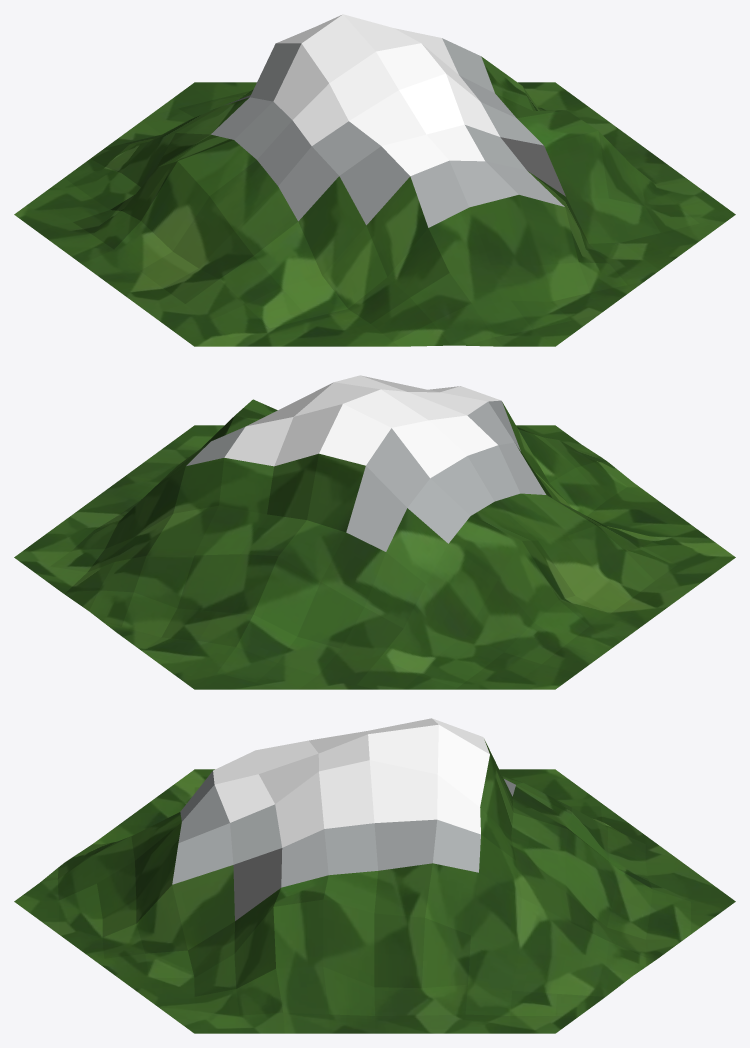
Rendered from mountain2.glb.
3 views of the same model, one above another, from view 1: azimuth 30°, elevation 25°; view 2: azimuth 150°, elevation 25°; view 3: azimuth 270°, elevation 25° (orthographic).
Visible parts, largest first — view 1: mountain; view 2: mountain; view 3: mountain.
Boxes of the visible parts, bbox=[...] form: mountain: bbox=[14, 14, 735, 346]; mountain: bbox=[14, 375, 735, 689]; mountain: bbox=[14, 718, 735, 1033].
Size of the model in its own units: 1.73 by 0.5409 by 2.
4 materials, 1 textured.
